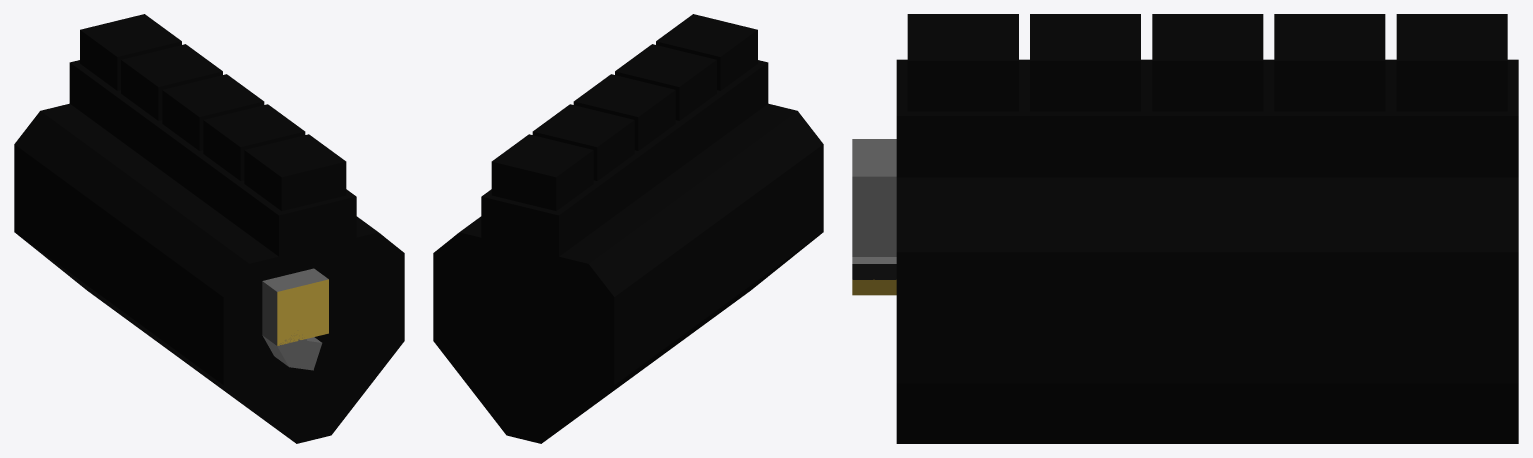
File: v5performanteturbo.obj
3 renders of one model, left to right at view 1: azimuth 30°, elevation 25°; view 2: azimuth 150°, elevation 25°; view 3: azimuth 270°, elevation 25°, orthographic. The views are drawn at different scales.
Parts seen in each view (by area): view 1: cube, turbo; view 2: cube; view 3: cube, turbo.
Boxes of the visible parts, left/top/right/bottom form: cube: left=14, top=14, right=404, bottom=443; turbo: left=262, top=268, right=328, bottom=370; cube: left=433, top=14, right=823, bottom=443; cube: left=896, top=14, right=1518, bottom=443; turbo: left=852, top=139, right=896, bottom=295.
Bounding box in the file's own units: 0.3589 × 0.5049 × 0.769.
